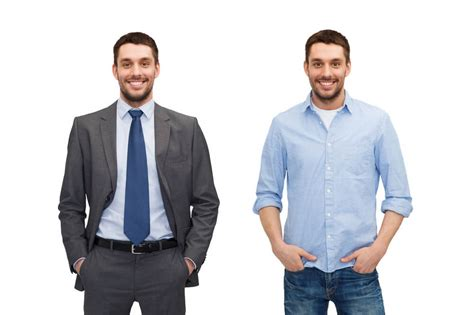homme: (253, 15, 415, 311), (60, 18, 216, 306)
